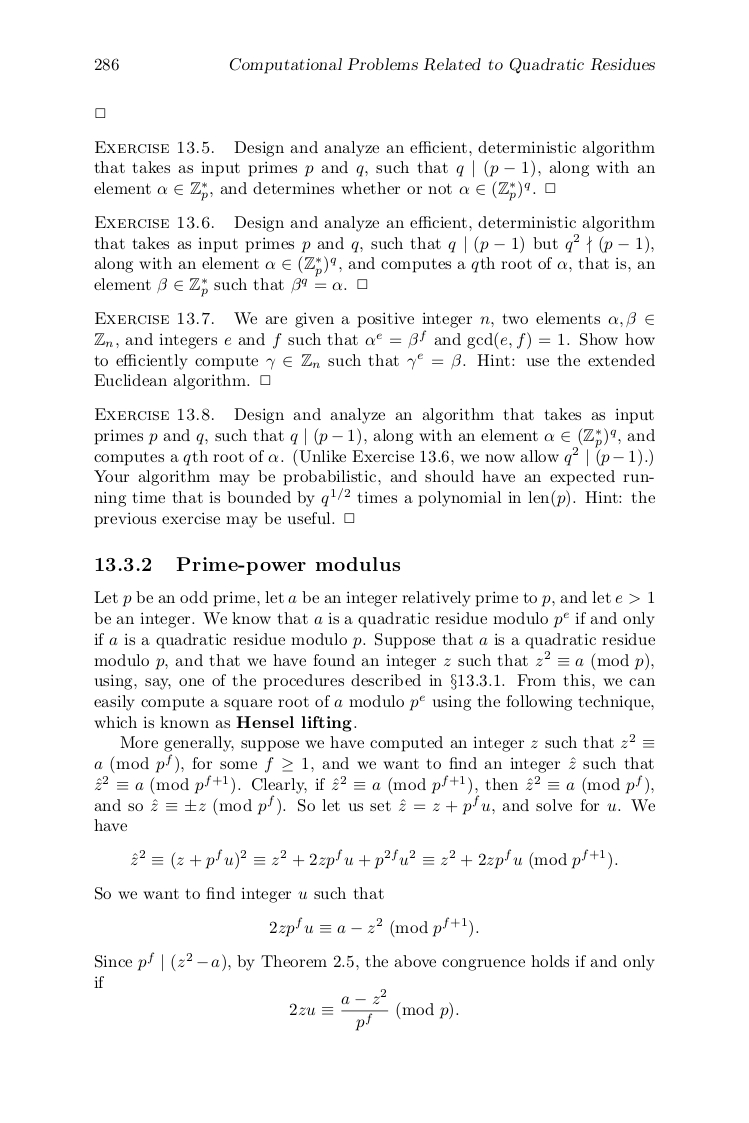formula: (130, 848, 617, 870), (289, 988, 458, 1031), (269, 916, 478, 938)
